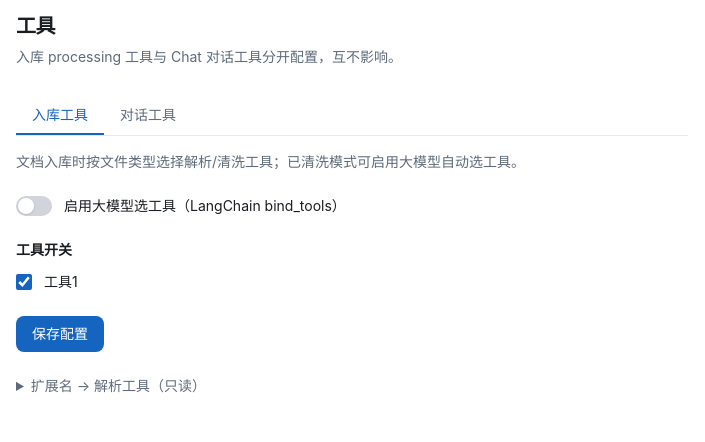
it: ProcessingPage › switches to agent tools tab
Expected: the text "工具1" is shown, x1=44 y1=272 x2=78 y2=292
Click the button "对话工具". click: (148, 116)
box: x1=104 y1=97 x2=192 y2=135
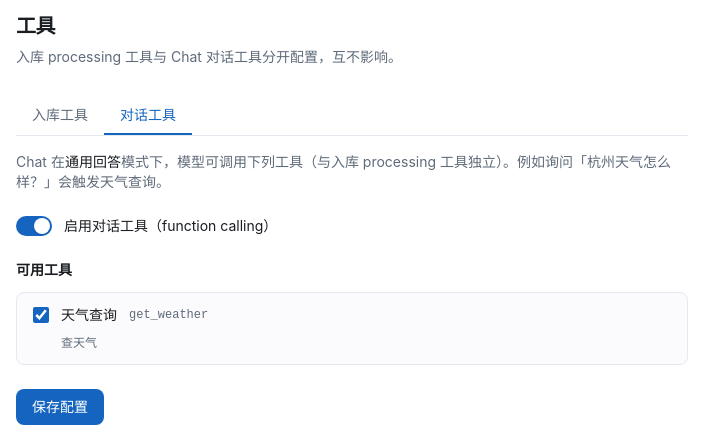
Result: the text "启用对话工具（function calling）" is shown at x1=64 y1=216 x2=277 y2=236
Result: the text "天气查询" is shown at x1=61 y1=305 x2=117 y2=325
Result: the text "get_weather" is shown at x1=129 y1=307 x2=208 y2=323
